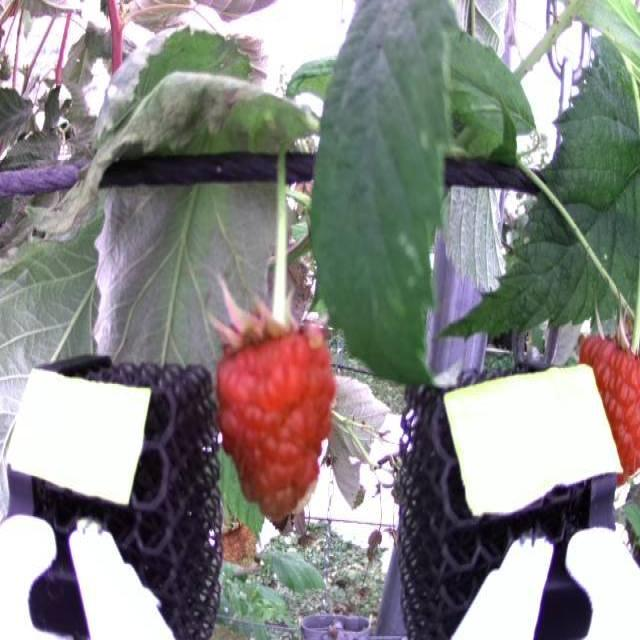Riped berries: (213, 320, 338, 520), (583, 323, 640, 477)
